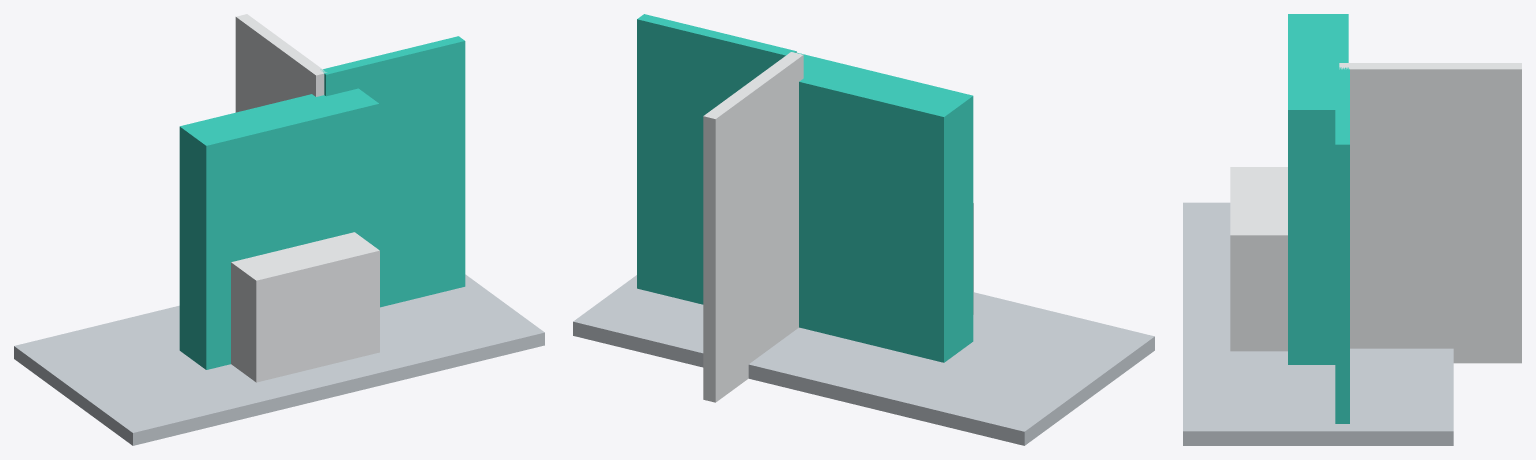
The picture shows the model from 3 angles, left to right: view 1: azimuth 30°, elevation 25°; view 2: azimuth 150°, elevation 25°; view 3: azimuth 270°, elevation 25°; orthographic projection. The views are drawn at different scales.
Parts seen in each view (by area): view 1: Exhibition Booth Concept; view 2: Exhibition Booth Concept; view 3: Exhibition Booth Concept.
Part boxes in pixels (x1=…): Exhibition Booth Concept: x1=14, y1=14, x2=544, y2=445; Exhibition Booth Concept: x1=573, y1=14, x2=1154, y2=445; Exhibition Booth Concept: x1=1183, y1=14, x2=1521, y2=445.
Bounding box in the file's own units: 4 × 2.4 × 2.5.
